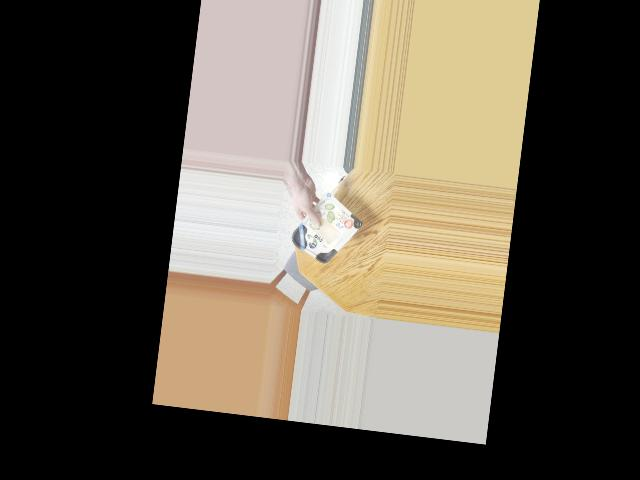cheese: (285, 199, 359, 263)
